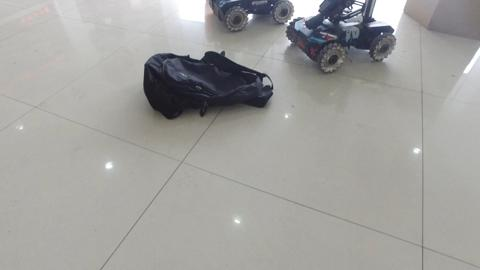bag: (141, 52, 279, 119)
chariot: (287, 2, 397, 73), (209, 1, 294, 30)
